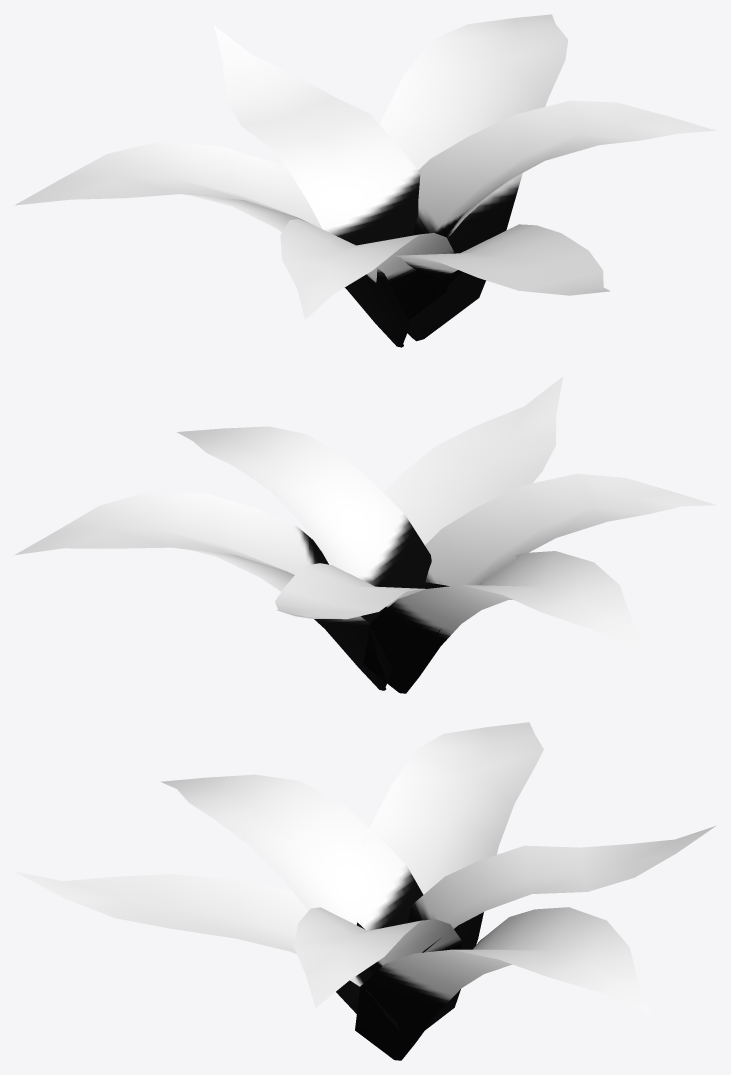
Rendered from grass2.FBX.
3 views of the same model, one above another, from view 1: azimuth 30°, elevation 25°; view 2: azimuth 150°, elevation 25°; view 3: azimuth 270°, elevation 25° (orthographic). The views are drawn at different scales.
Visible parts, largest first — view 1: Object046; view 2: Object046; view 3: Object046.
Boxes of the visible parts, bbox=[...] form: Object046: bbox=[14, 14, 715, 347]; Object046: bbox=[14, 376, 716, 693]; Object046: bbox=[15, 722, 715, 1060].
Bounding box in the file's own units: 70.88 × 23.75 × 71.5.
